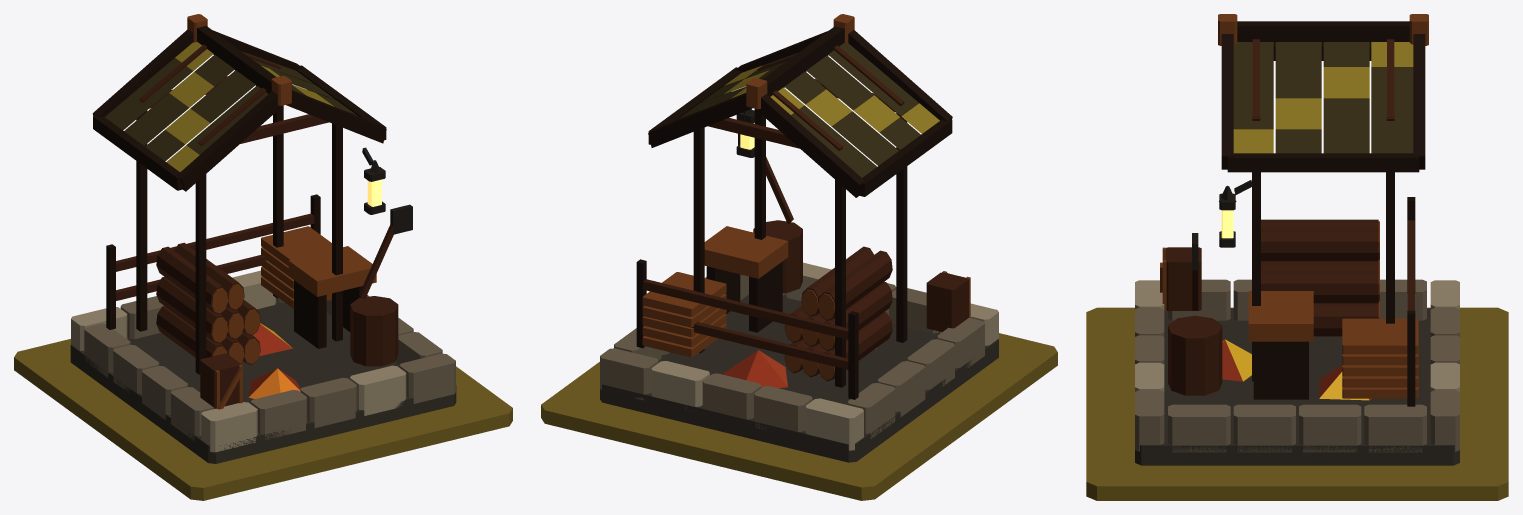
Rendered from lumber_t5.glb.
3 views of the same model, side by side, from view 1: azimuth 30°, elevation 25°; view 2: azimuth 150°, elevation 25°; view 3: azimuth 270°, elevation 25° (orthographic). The views are drawn at different scales.
Visible parts, largest first — view 1: MMR | lumber | T05 Architecture.001, MMR | lumber | Tier 05 Ground.001, MMR | lumber | T05 Autumn Dressing.001; view 2: MMR | lumber | T05 Architecture.001, MMR | lumber | Tier 05 Ground.001, MMR | lumber | T05 Autumn Dressing.001; view 3: MMR | lumber | T05 Architecture.001, MMR | lumber | Tier 05 Ground.001, MMR | lumber | T05 Autumn Dressing.001.
Part boxes in pixels (x1=…): MMR | lumber | T05 Architecture.001: x1=70, y1=14, x2=456, y2=463; MMR | lumber | Tier 05 Ground.001: x1=14, y1=339, x2=512, y2=500; MMR | lumber | T05 Autumn Dressing.001: x1=248, y1=323, x2=300, y2=398; MMR | lumber | T05 Architecture.001: x1=600, y1=14, x2=998, y2=462; MMR | lumber | Tier 05 Ground.001: x1=541, y1=333, x2=1057, y2=500; MMR | lumber | T05 Autumn Dressing.001: x1=723, y1=348, x2=876, y2=388; MMR | lumber | T05 Architecture.001: x1=1135, y1=14, x2=1459, y2=465; MMR | lumber | Tier 05 Ground.001: x1=1086, y1=307, x2=1508, y2=500; MMR | lumber | T05 Autumn Dressing.001: x1=1222, y1=339, x2=1371, y2=400.
Bounding box in the file's own units: 1.3 × 1.31 × 1.3.
2 materials, 1 textured.
